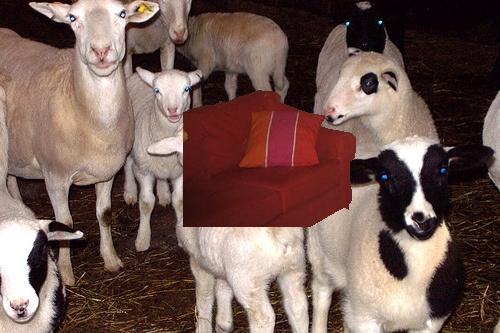tampered: (184, 91, 356, 227)
